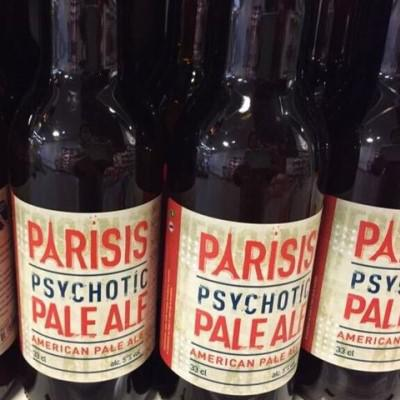beer: (1, 2, 399, 400)
